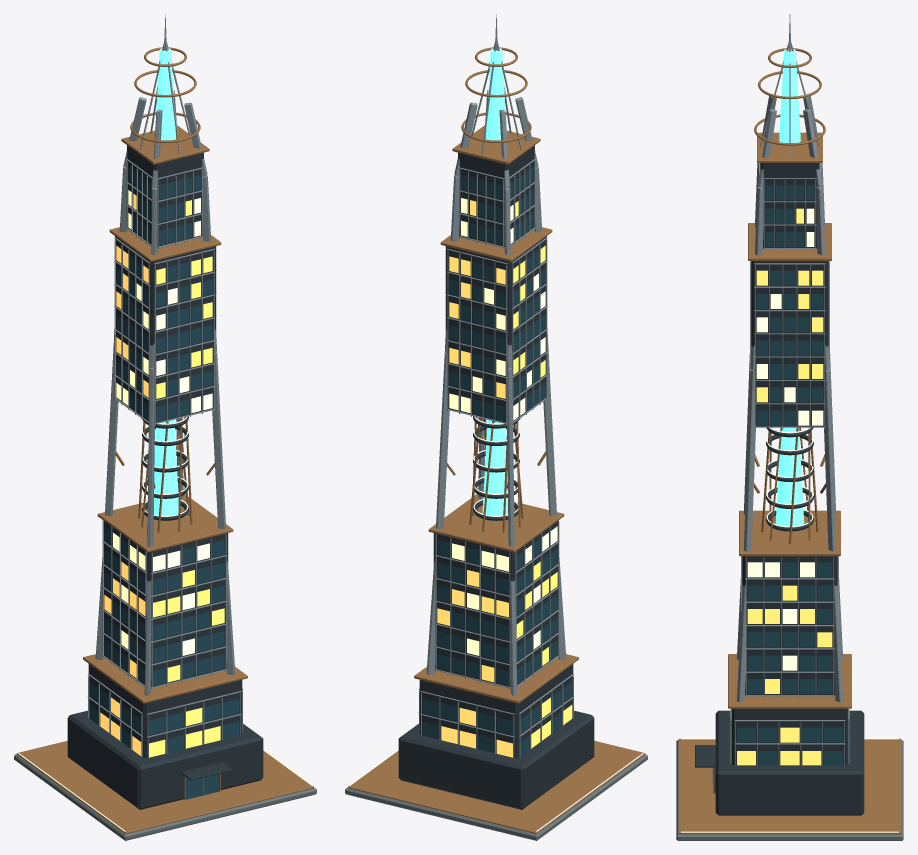
Rendered from agent-spire.lod0.glb.
3 views of the same model, side by side, from view 1: azimuth 30°, elevation 25°; view 2: azimuth 150°, elevation 25°; view 3: azimuth 270°, elevation 25° (orthographic). The views are drawn at different scales.
Parts seen in each view (by area): view 1: structure; view 2: structure; view 3: structure.
Boxes of the visible parts, x1,y1,x2,y2 form: structure: (14, 14, 316, 840); structure: (345, 14, 647, 840); structure: (676, 14, 903, 840).
Bounding box in the file's own units: 23 × 86.9 × 23.
